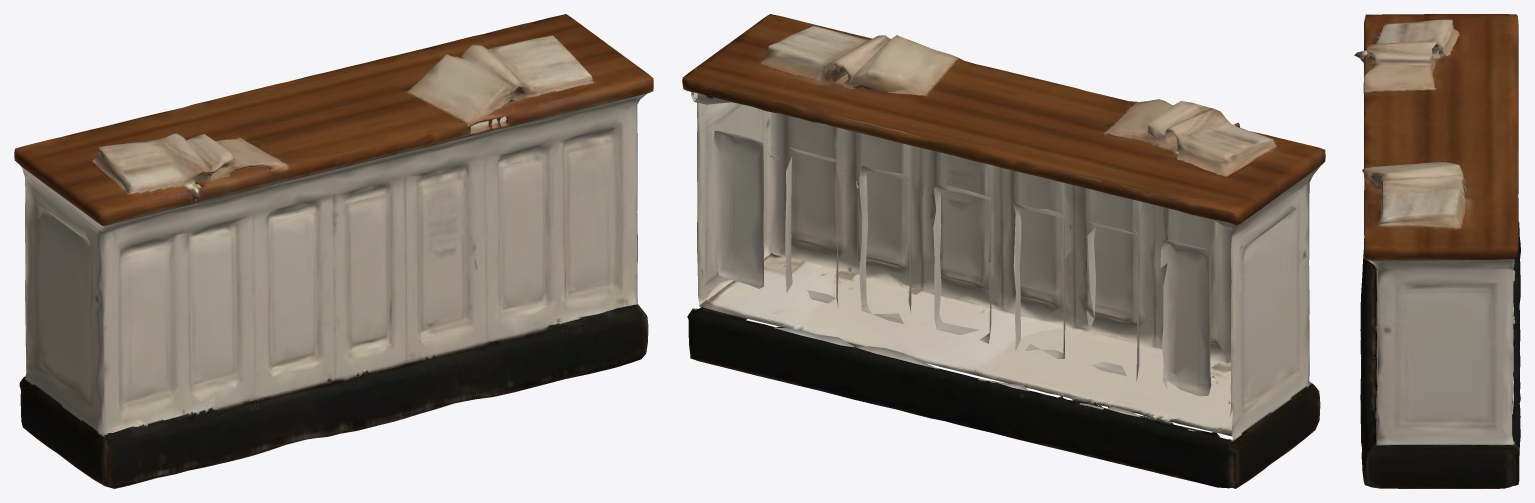
Rendered from meson_enfermeria.glb.
The picture shows the model from 3 angles, left to right: view 1: azimuth 30°, elevation 25°; view 2: azimuth 150°, elevation 25°; view 3: azimuth 270°, elevation 25°; orthographic projection. The views are drawn at different scales.
Parts seen in each view (by area): view 1: geometry_0; view 2: geometry_0; view 3: geometry_0.
Part boxes in pixels (x1,y1,x2,y2): geometry_0: (14,14,653,488); geometry_0: (682,14,1325,488); geometry_0: (1354,14,1520,488).
Size of the model in its own units: 2 by 1.05 by 0.6.
Materials: 1 (1 with a texture image).
